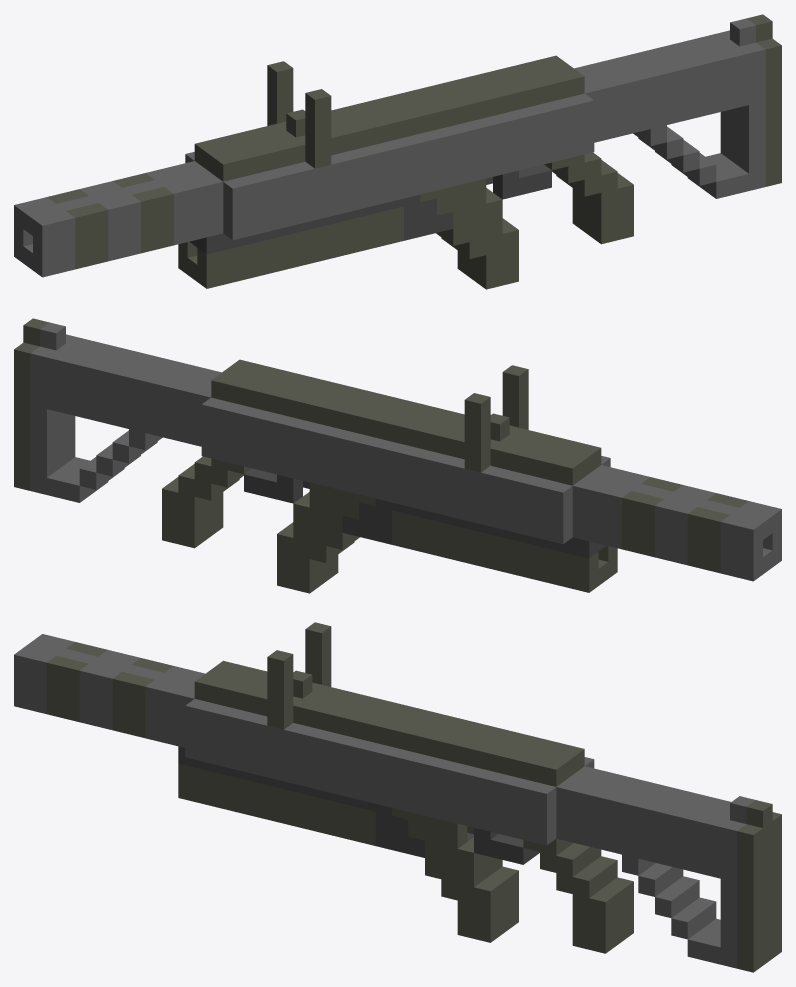
The model's file is fantasy gun 1.obj.
3 views of the same model, one above another, from view 1: azimuth 30°, elevation 25°; view 2: azimuth 150°, elevation 25°; view 3: azimuth 330°, elevation 25° (orthographic).
Bounding box in the file's own units: 45 × 14 × 5.
Materials: 1 (1 with a texture image).
